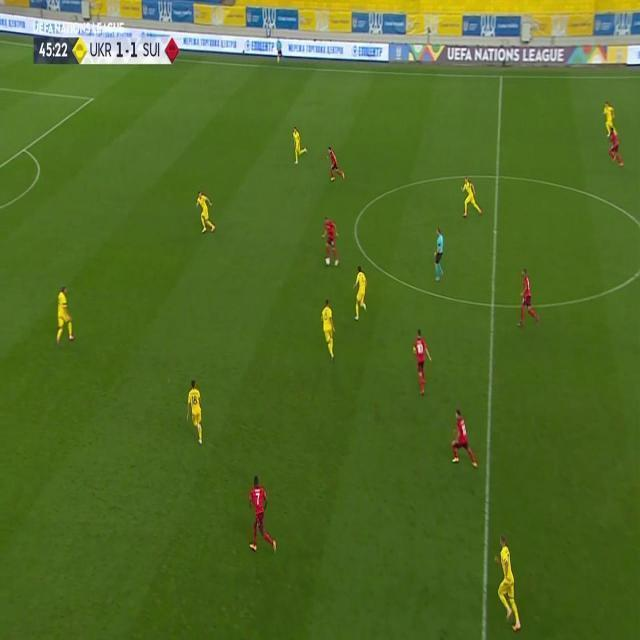ball: (323, 257, 331, 264)
player: (492, 533, 522, 632), (245, 475, 277, 557), (448, 408, 478, 470), (601, 101, 625, 168), (410, 328, 433, 396), (516, 269, 540, 328), (55, 285, 76, 346), (186, 378, 204, 446), (320, 298, 337, 360), (194, 189, 216, 234), (350, 265, 368, 320), (460, 175, 483, 218), (322, 216, 340, 267), (326, 145, 345, 183), (292, 125, 308, 165)
referee: (432, 227, 445, 281), (274, 37, 283, 65)
